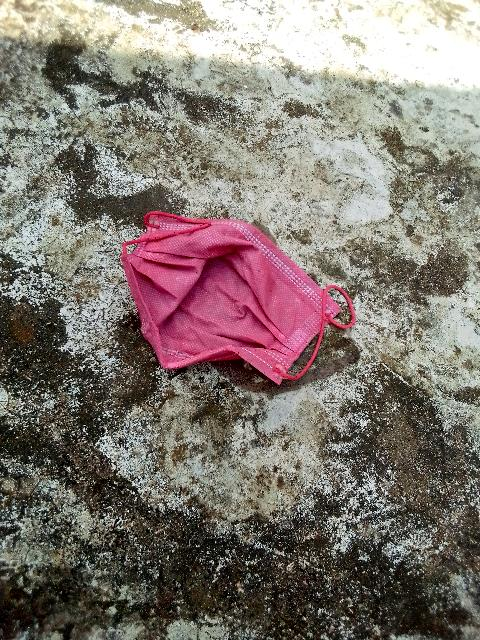mask: (117, 187, 359, 407)
